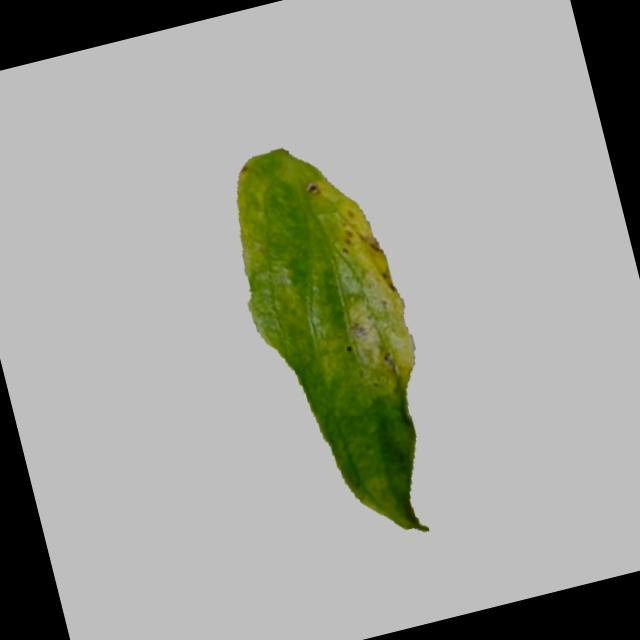yellow-mottle-virus: (191, 121, 460, 564)
